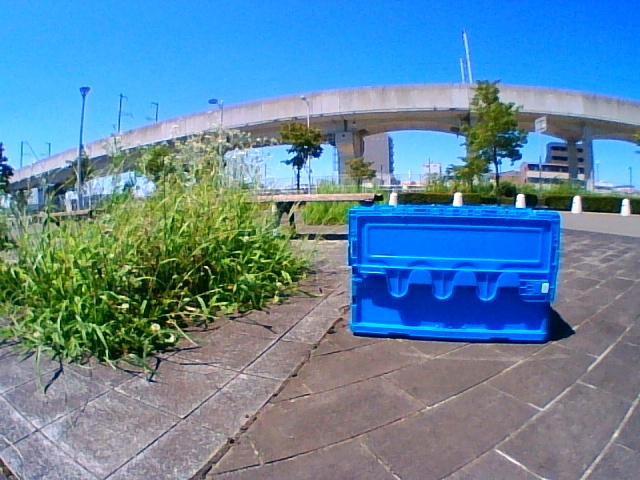blue_box: (352, 208, 543, 332)
